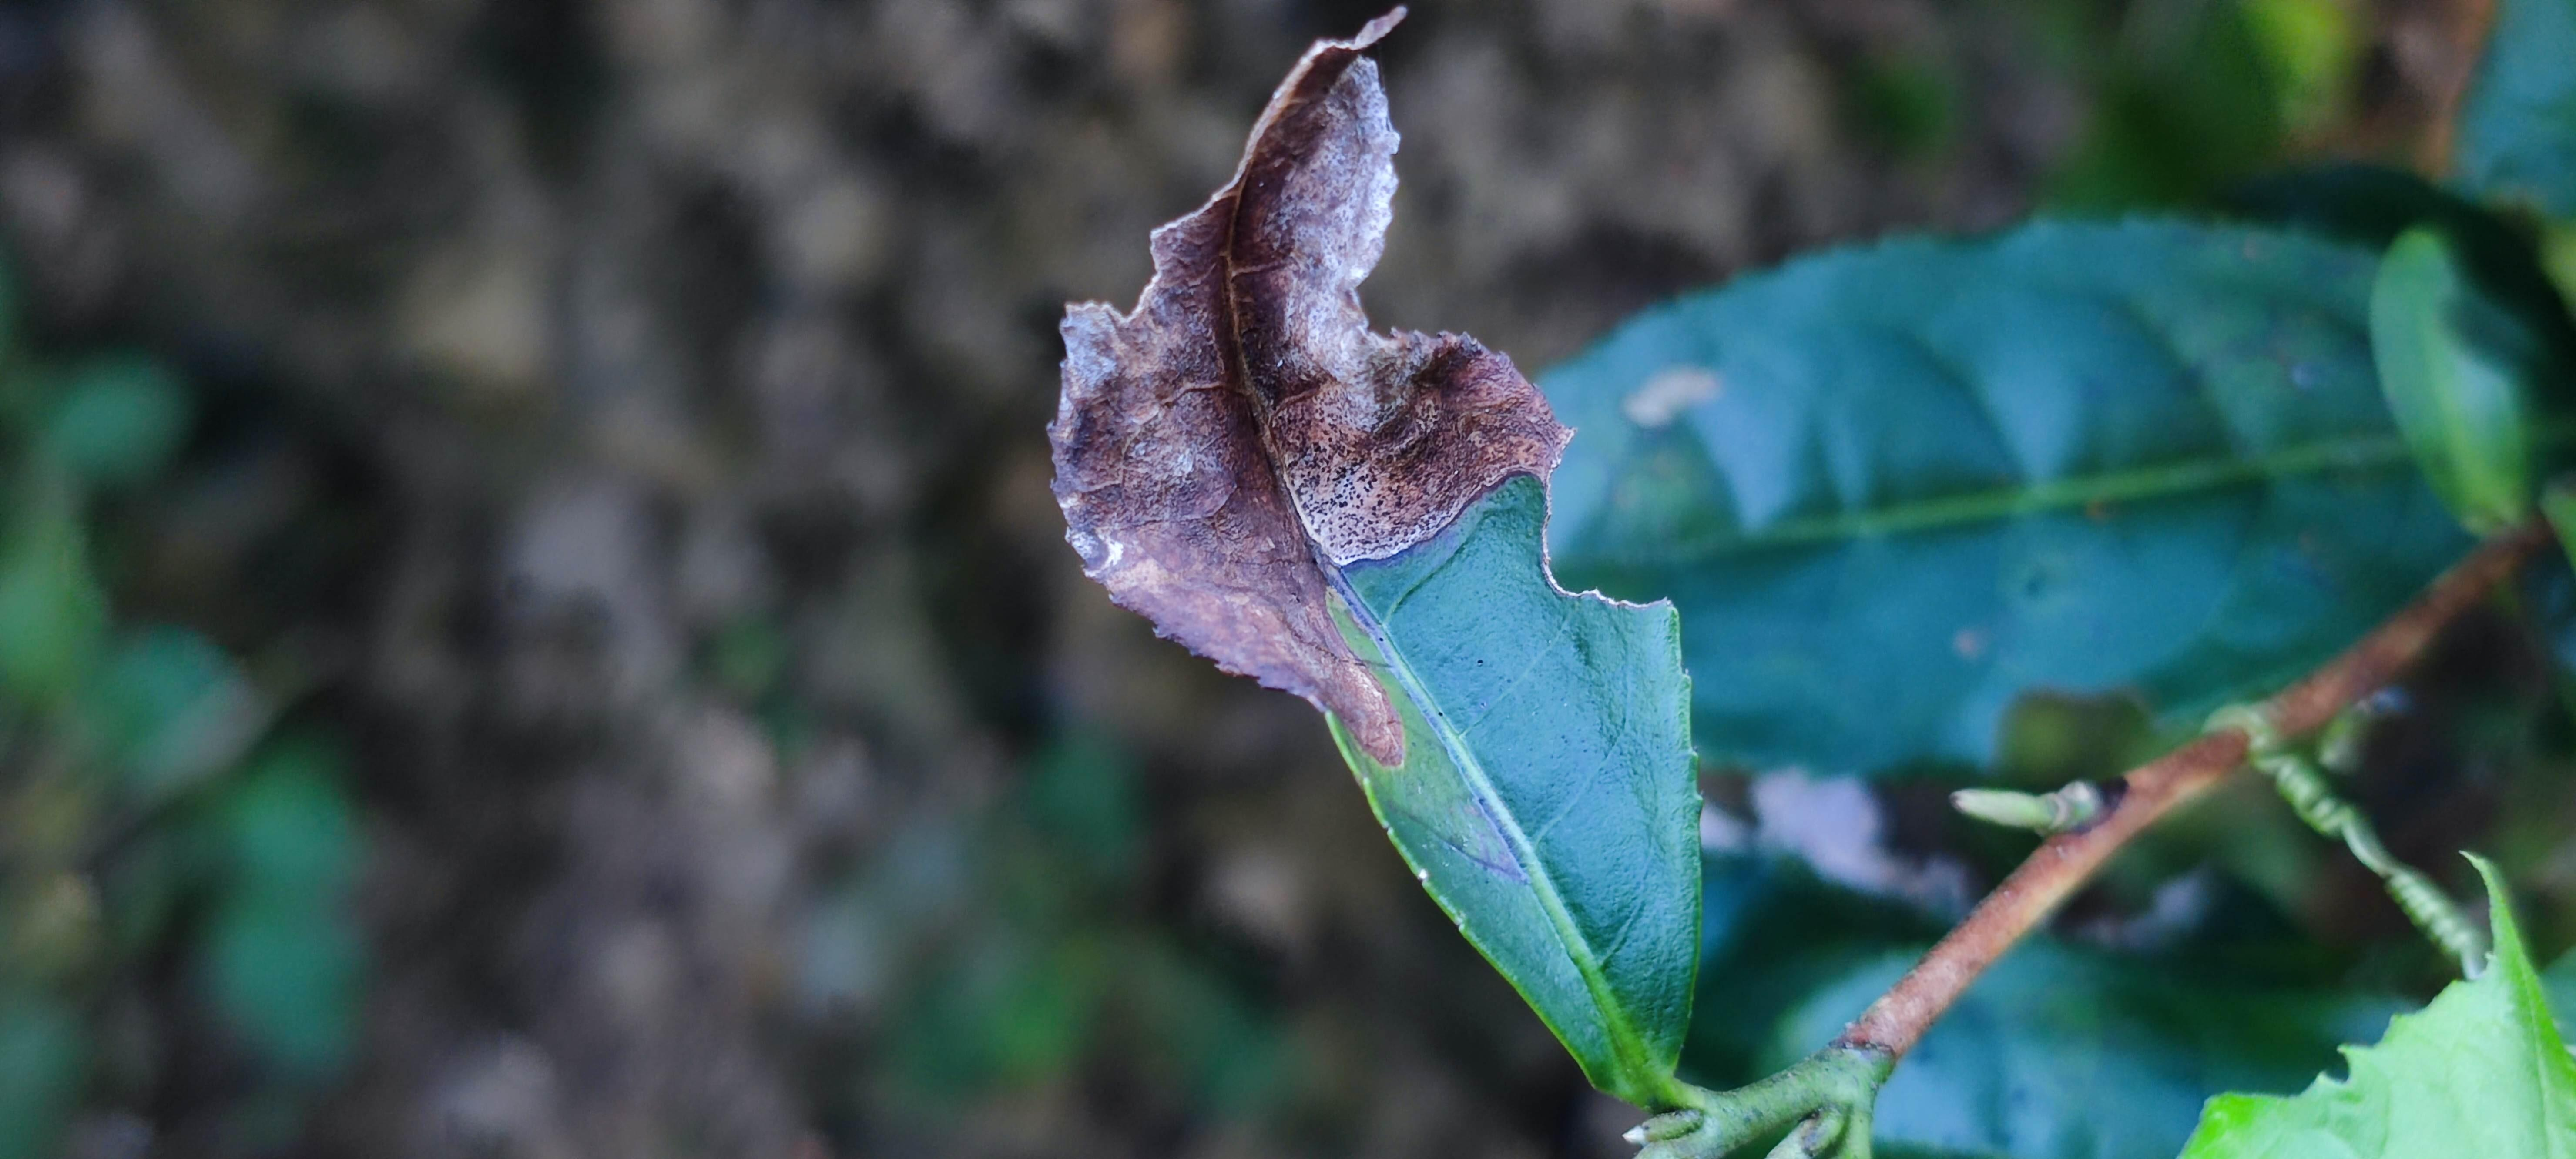tanju_high: (1046, 11, 1707, 1102)
